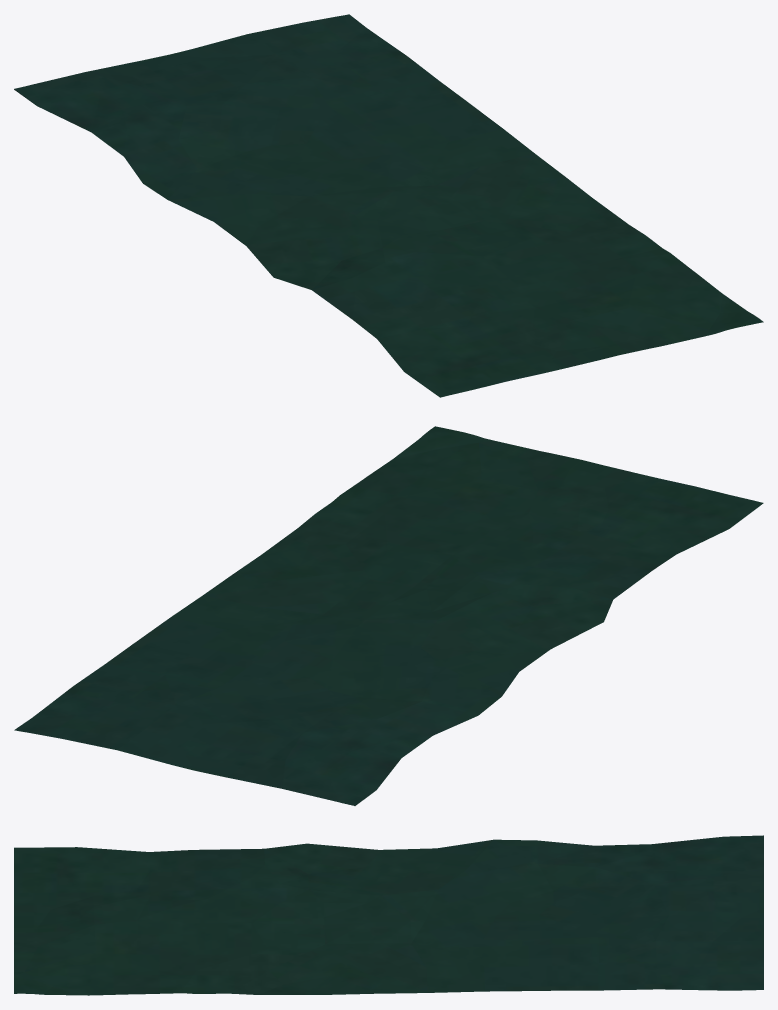
3 views of the same model, one above another, from view 1: azimuth 30°, elevation 25°; view 2: azimuth 150°, elevation 25°; view 3: azimuth 270°, elevation 25° (orthographic). The views are drawn at different scales.
Size of the model in its own units: 24.38 by 0.9643 by 52.22.
1 material, 1 textured.
